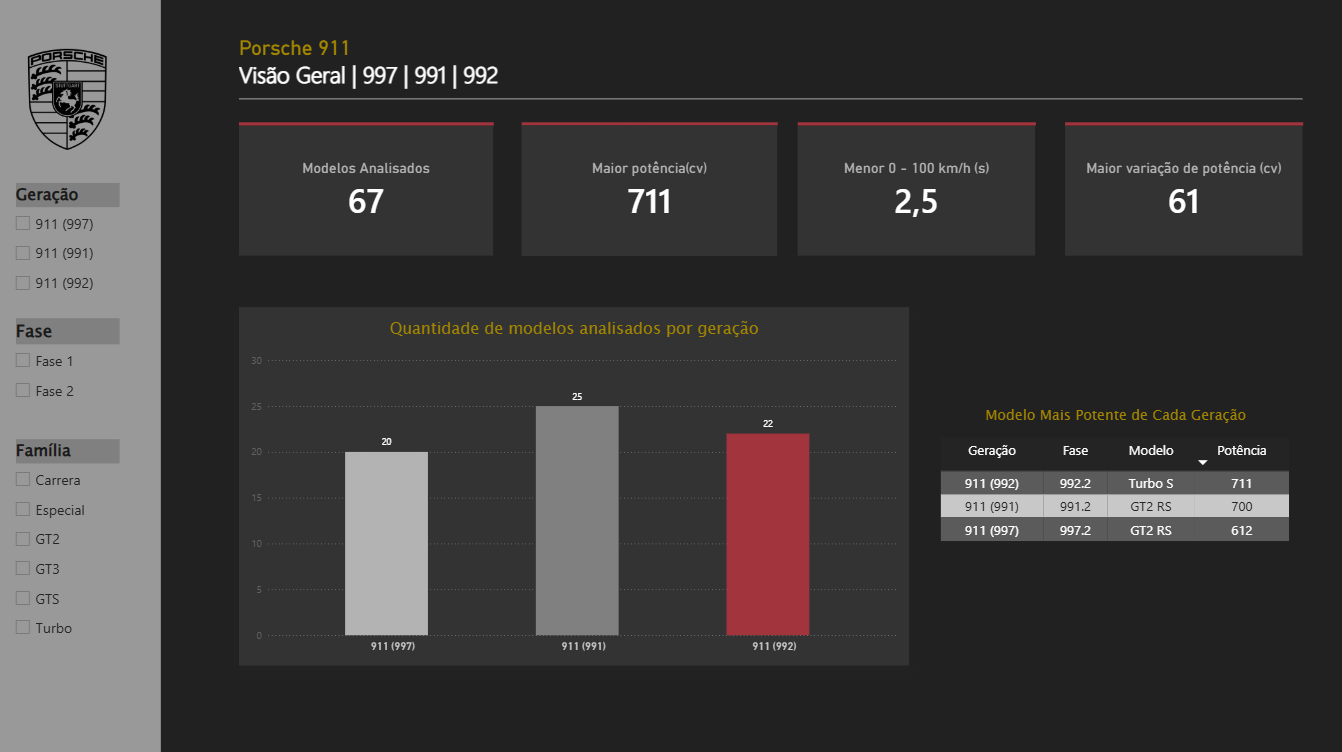

What the dashboard file says about the page in this screenshot:
{"tool":"powerbi","page":{"name":"Visão Geral","canvas":[1920,1080],"ordinal":0},"visuals":[{"type":"clusteredColumnChart","title":"Quantidade de modelos analisados por geração","fields":{"Category":["public geracoes.geracao"],"Y":["CountNonNull(public modelos.modelo)"]},"box":[343.9,492.5,952,509.1],"z":0},{"type":"tableEx","title":"Modelo Mais Potente de Cada Geração","fields":{"Values":["public modelos.geracao","public modelos.fase","public modelos.modelo","public modelos.potencia_cv"]},"box":[1341,614.2,513.6,265.8],"z":1000},{"type":"textbox","box":[344.4,26.9,1391.2,115.9],"z":2000},{"type":"cardVisual","fields":{"Data":["Max(public modelos.id_modelo)"]},"box":[343.9,177.2,361.9,271.8],"z":3000},{"type":"cardVisual","fields":{"Data":["Max(public modelos.potencia_cv)"]},"box":[753.8,177.2,337.9,271.8],"z":4000},{"type":"cardVisual","fields":{"Data":["Min(public modelos.aceleracao_0_100_s)"]},"box":[1136.7,177.2,337.9,271.8],"z":5000},{"type":"cardVisual","fields":{"Data":["public modelos.Maior_Variacao_Fase_CV"]},"box":[1516.6,177.2,337.9,271.8],"z":6000},{"type":"shape","box":[0,0,258.3,1079.7],"z":7000},{"type":"slicer","fields":{"Values":["public geracoes.geracao"]},"box":[18,262.8,214.7,186.2],"z":8000},{"type":"slicer","fields":{"Values":["public modelos.Fase_Generica"]},"box":[18,455,193.7,171.2],"z":8001},{"type":"slicer","fields":{"Values":["public modelos.familia"]},"box":[18,644.2,214.7,321.3],"z":8002},{"type":"image","box":[51.1,78.1,130.6,130.6],"z":8003}]}

Visuals, with their boxes on the page's 1920x1080 design canvas (x1, y1, x2, y2). These are canvas units, not pixel positions in the 1342x752 screenshot, which may show the page scaled, cropped or inside an application window:
"Quantidade de modelos analisados por geração" clusteredColumnChart: (344,492,1296,1002)
"Modelo Mais Potente de Cada Geração" tableEx: (1341,614,1855,880)
textbox: (344,27,1736,143)
cardVisual - Max(public modelos.id_modelo): (344,177,706,449)
cardVisual - Max(public modelos.potencia_cv): (754,177,1092,449)
cardVisual - Min(public modelos.aceleracao_0_100_s): (1137,177,1475,449)
cardVisual - public modelos.Maior_Variacao_Fase_CV: (1517,177,1854,449)
shape: (0,0,258,1080)
slicer - public geracoes.geracao: (18,263,233,449)
slicer - public modelos.Fase_Generica: (18,455,212,626)
slicer - public modelos.familia: (18,644,233,966)
image: (51,78,182,209)
